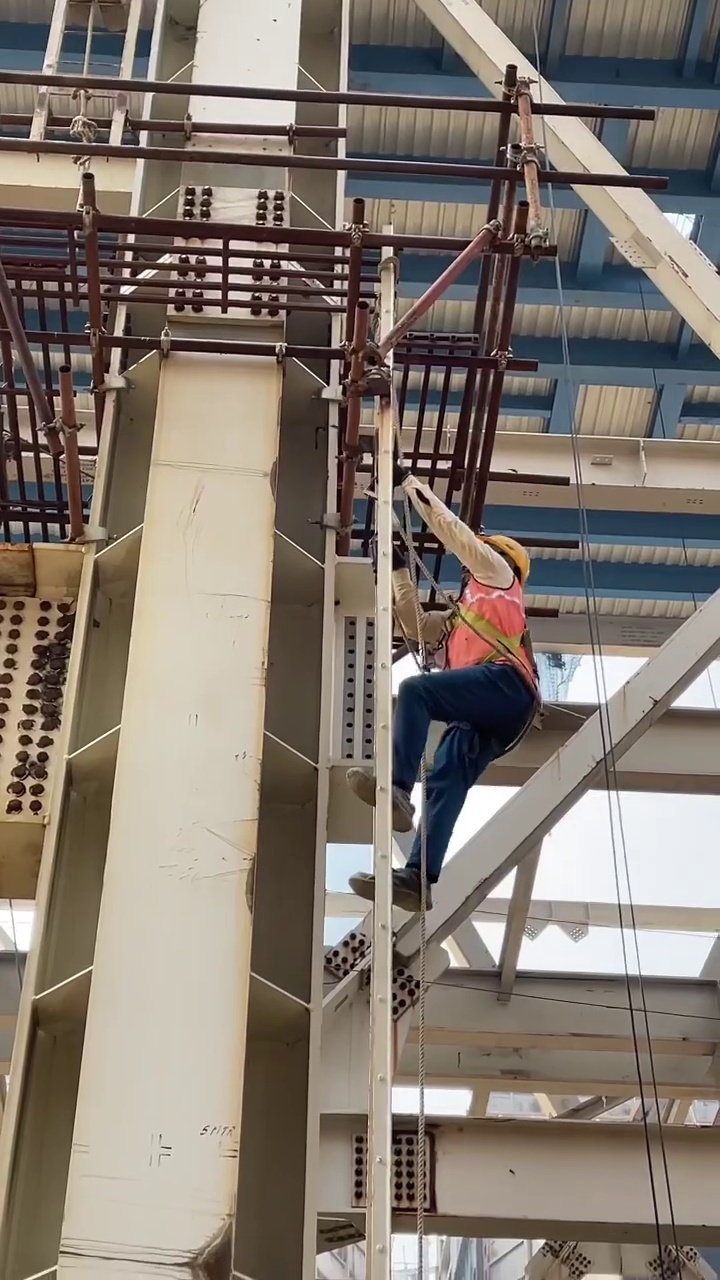Helmet: (477, 531, 530, 577)
Person: (344, 531, 540, 905)
Safety_Harness: (430, 581, 541, 709)
Safety_shoes: (344, 766, 417, 834), (350, 863, 433, 910)
